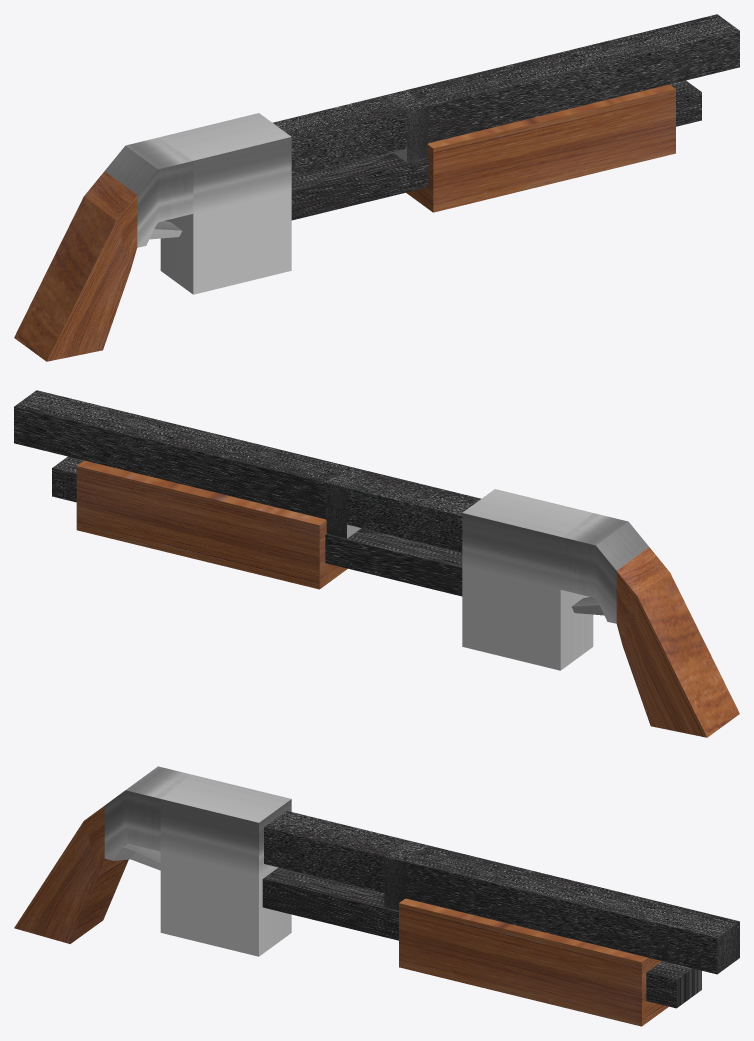
Rendered from shotgun.glb.
3 views of the same model, one above another, from view 1: azimuth 30°, elevation 25°; view 2: azimuth 150°, elevation 25°; view 3: azimuth 330°, elevation 25° (orthographic).
Parts seen in each view (by area): view 1: Shotgun, Cube; view 2: Shotgun, Cube; view 3: Shotgun, Cube.
Part boxes in pixels (<box>): Shotgun: <box>14,14,739,361</box>; Cube: <box>406,84,675,212</box>; Shotgun: <box>14,390,739,737</box>; Cube: <box>76,460,347,589</box>; Shotgun: <box>14,766,739,1008</box>; Cube: <box>399,898,668,1026</box>.
Bounding box in the file's own units: 8.37 × 1.92 × 0.735.
1 material, 1 textured.
